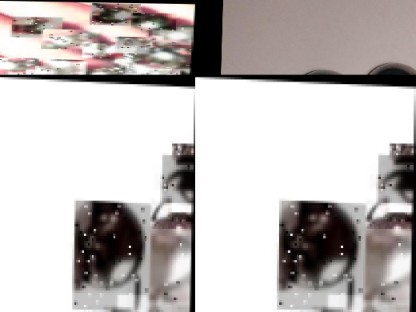ironball: (278, 196, 367, 309), (73, 196, 152, 309), (340, 222, 412, 308), (128, 222, 192, 308), (378, 150, 414, 199), (161, 150, 194, 199), (136, 46, 192, 67), (90, 1, 140, 24), (42, 28, 99, 48), (11, 15, 63, 36), (329, 291, 373, 311), (131, 11, 177, 29), (118, 291, 158, 311), (151, 25, 193, 43), (126, 61, 182, 74), (82, 40, 124, 57), (0, 56, 39, 74), (42, 59, 88, 74), (116, 35, 156, 51), (171, 62, 191, 73), (26, 68, 54, 74)
